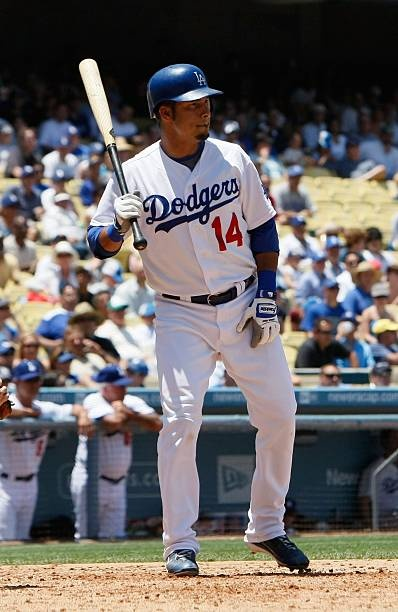bita: (72, 57, 144, 247)
